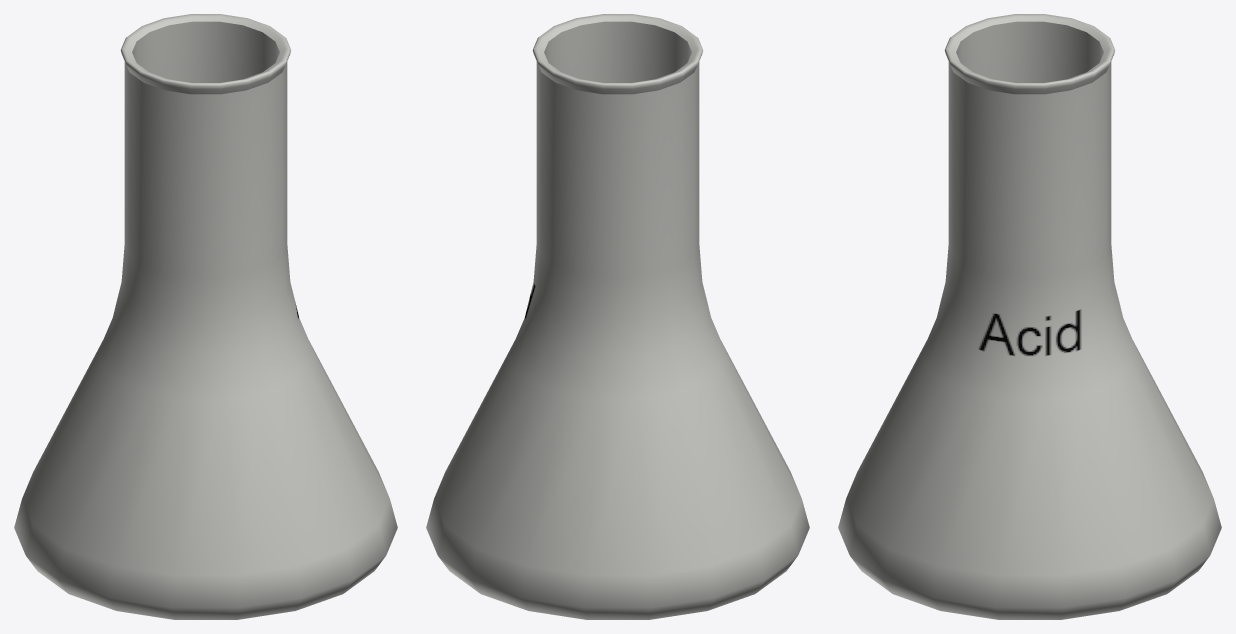
The model's file is ArsenicObject.DAE.
3 views of the same model, side by side, from view 1: azimuth 30°, elevation 25°; view 2: azimuth 150°, elevation 25°; view 3: azimuth 270°, elevation 25° (orthographic).
Parts seen in each view (by area): view 1: Tube001; view 2: Tube001; view 3: Tube001.
Part boxes in pixels (x1,y1,x2,y2): Tube001: [14, 14, 397, 619]; Tube001: [426, 14, 809, 619]; Tube001: [838, 14, 1221, 619].
Size of the model in its own units: 8.11 by 8.23 by 11.89.
Materials: 1 (1 with a texture image).
